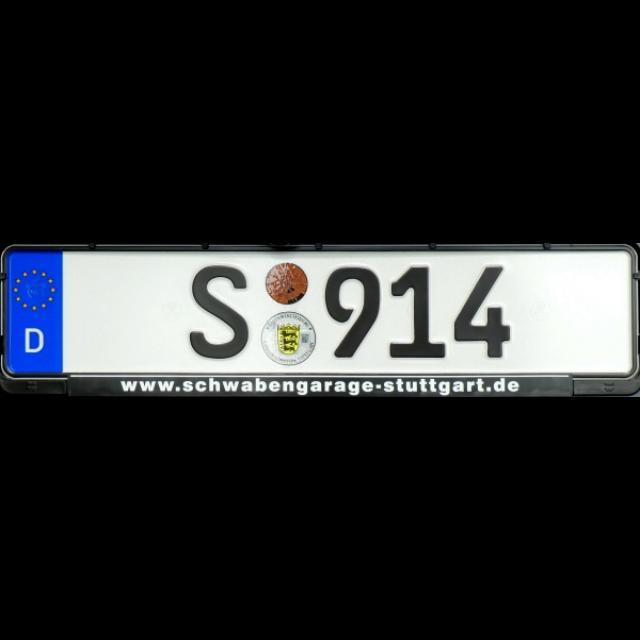license-plates: (0, 244, 640, 398)
